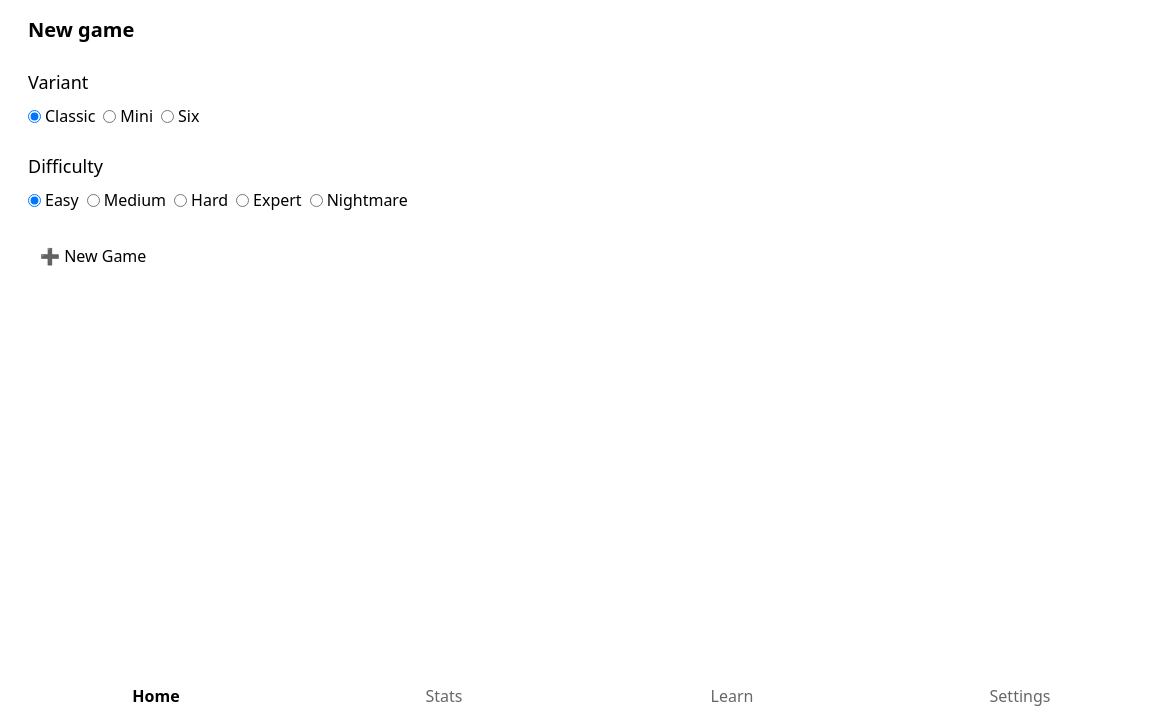
Test: App navigation › shows a Learn tab in the bottom tab bar that navigates to #/learn
Step 1. Click the button with test id "tab-learn" → click(732, 696), box [588,672,876,719]
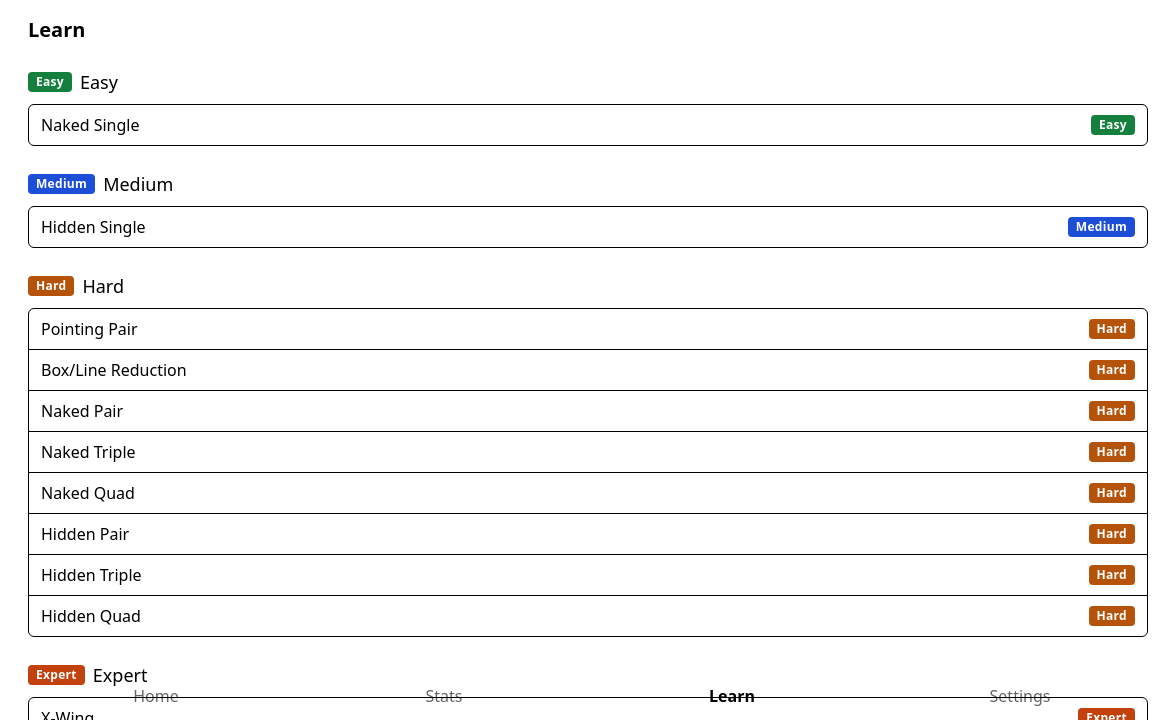
Expected: the element with test id "techniques-screen" is shown
